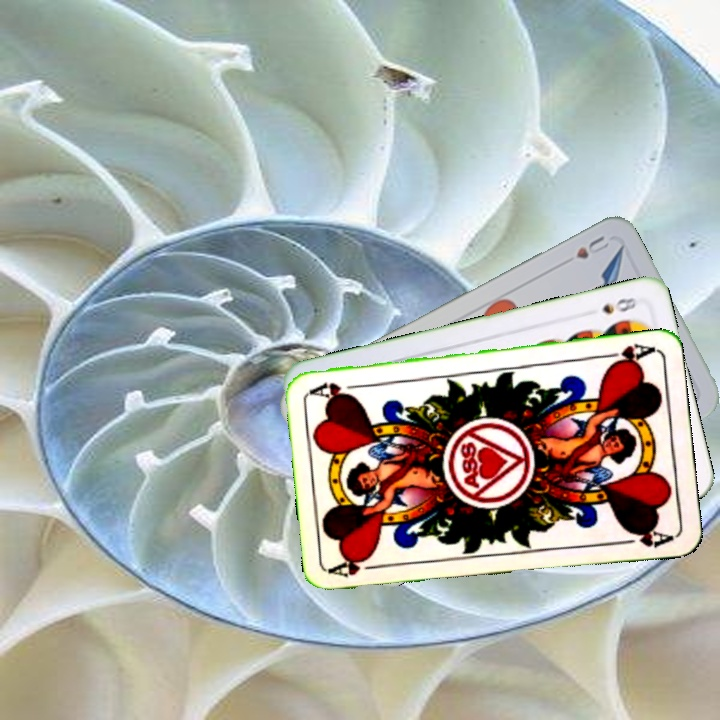HA: (597, 339, 656, 369), (328, 554, 387, 581)
HU: (571, 232, 612, 262)
S8: (598, 293, 643, 317)
